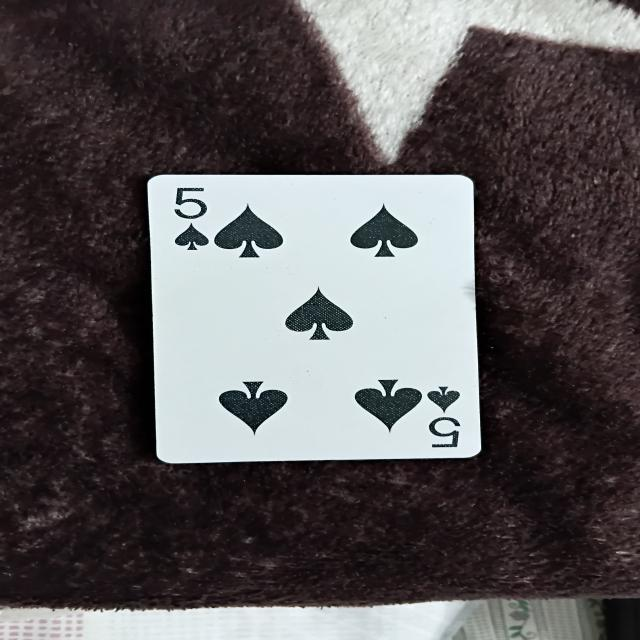8S: (145, 170, 482, 460)
